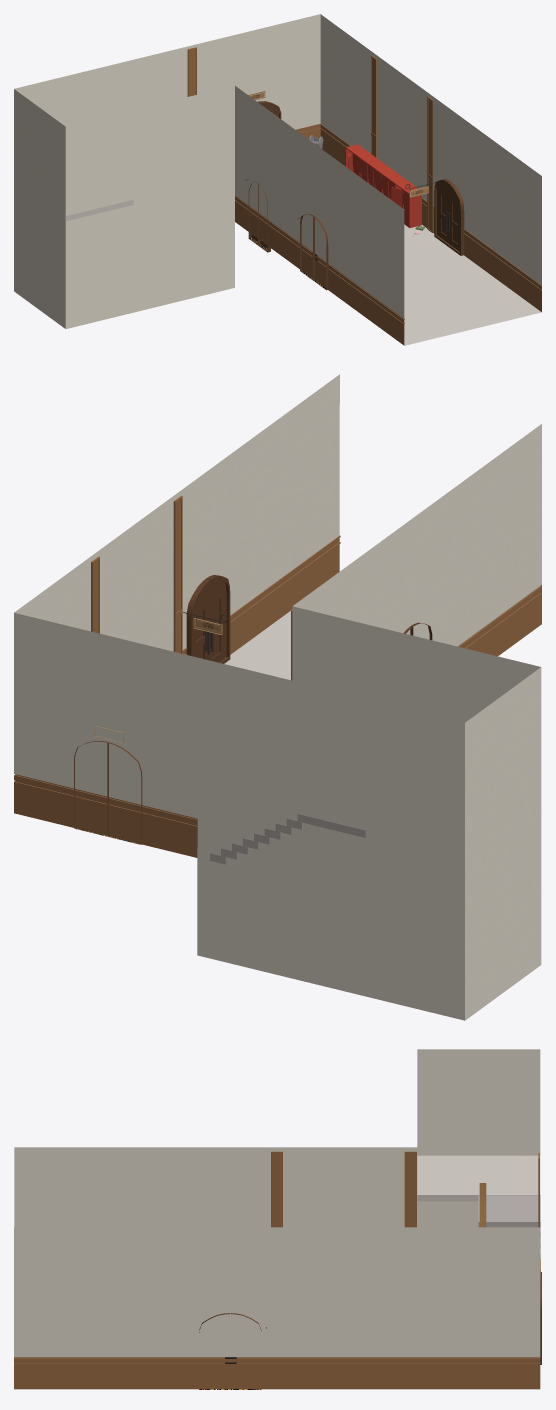
File: corridor3.fbx
3 views of the same model, one above another, from view 1: azimuth 30°, elevation 25°; view 2: azimuth 150°, elevation 25°; view 3: azimuth 270°, elevation 25° (orthographic). The views are drawn at different scales.
Parts seen in each view (by area): view 1: corrodor3; view 2: corrodor3; view 3: corrodor3.
Part boxes in pixels (left/top/right/bottom): corrodor3: left=14, top=14, right=541, bottom=345; corrodor3: left=14, top=374, right=541, bottom=1020; corrodor3: left=14, top=1049, right=541, bottom=1389.
Size of the model in its own units: 18.71 by 11.72 by 23.31.
2 materials, 2 textured.
